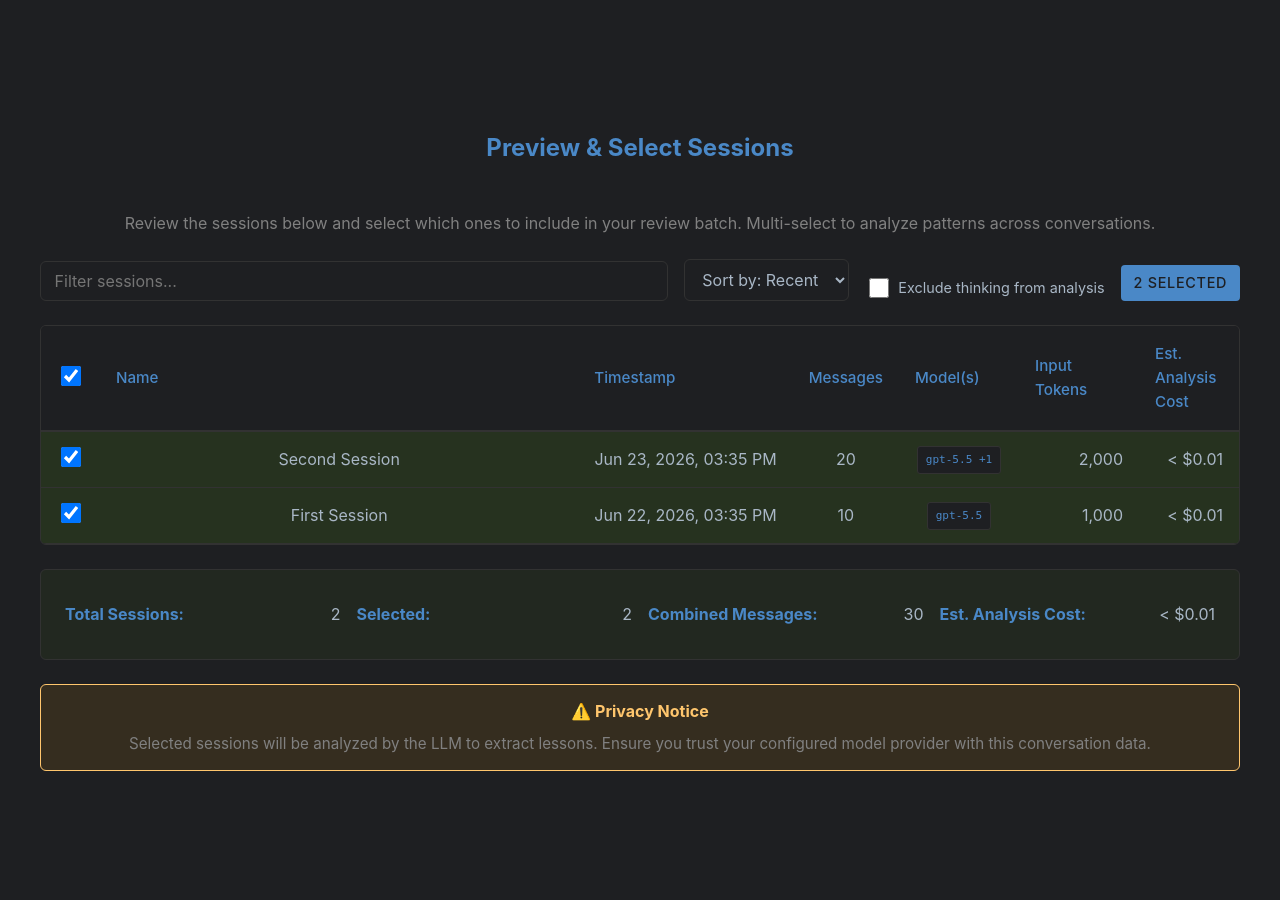
Scenario: SessionList › filters sessions by name
Type "First" into the field with placeholder "Filter sessions...".
click(354, 281); type("First")  # box [40,261,668,300]
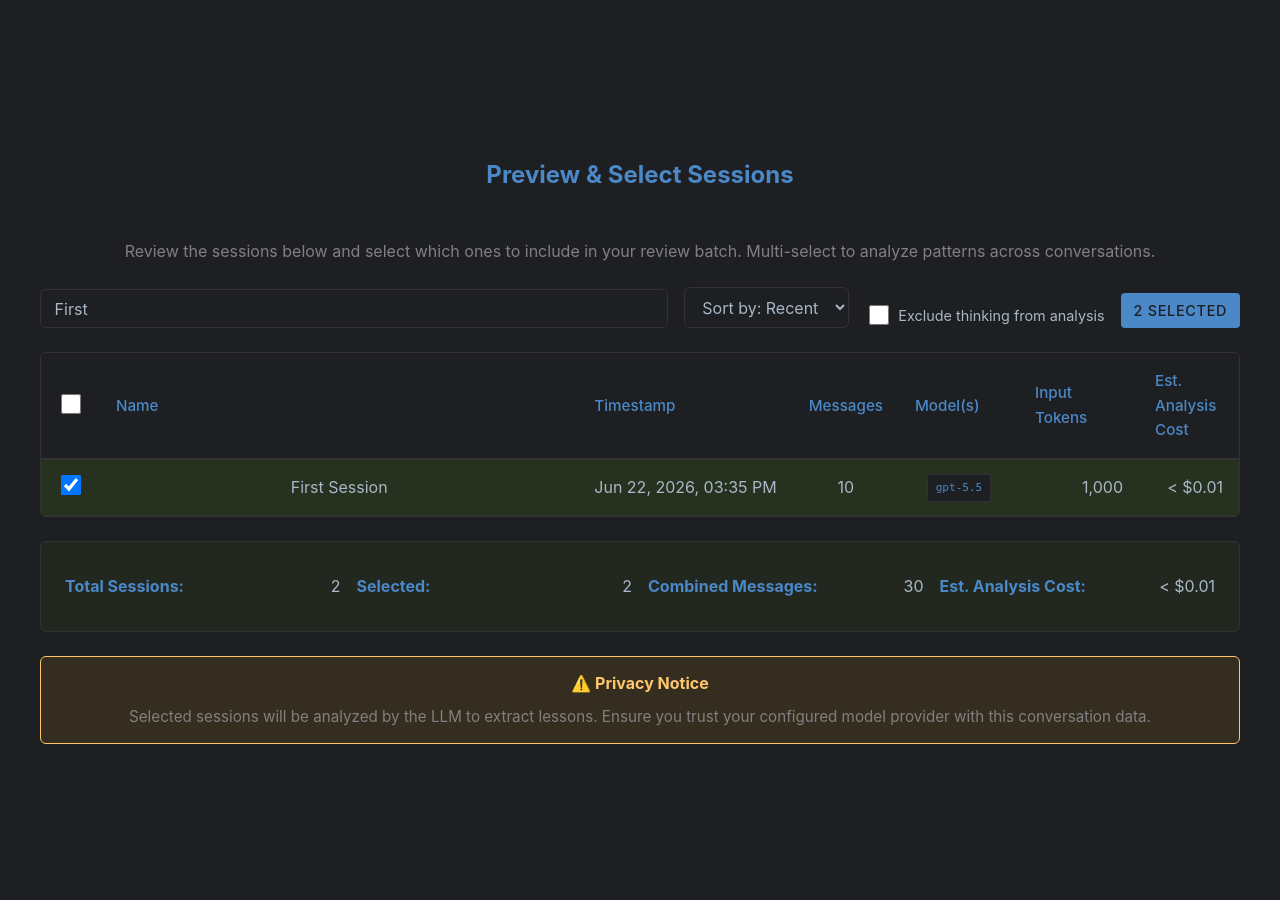
Expected: the text "First Session" is shown, [291,477,388,497]
Result: the text "Second Session" is gone
